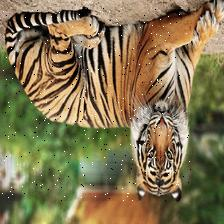tiger: (2, 7, 191, 200)
